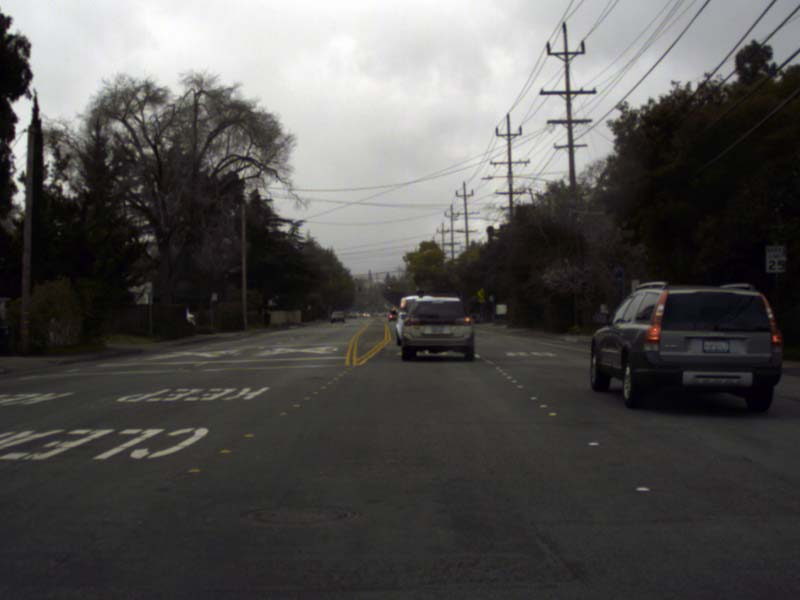Red: (387, 284, 390, 291)
